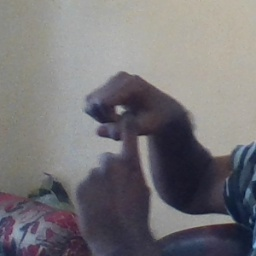Q: (68, 66, 180, 224)
